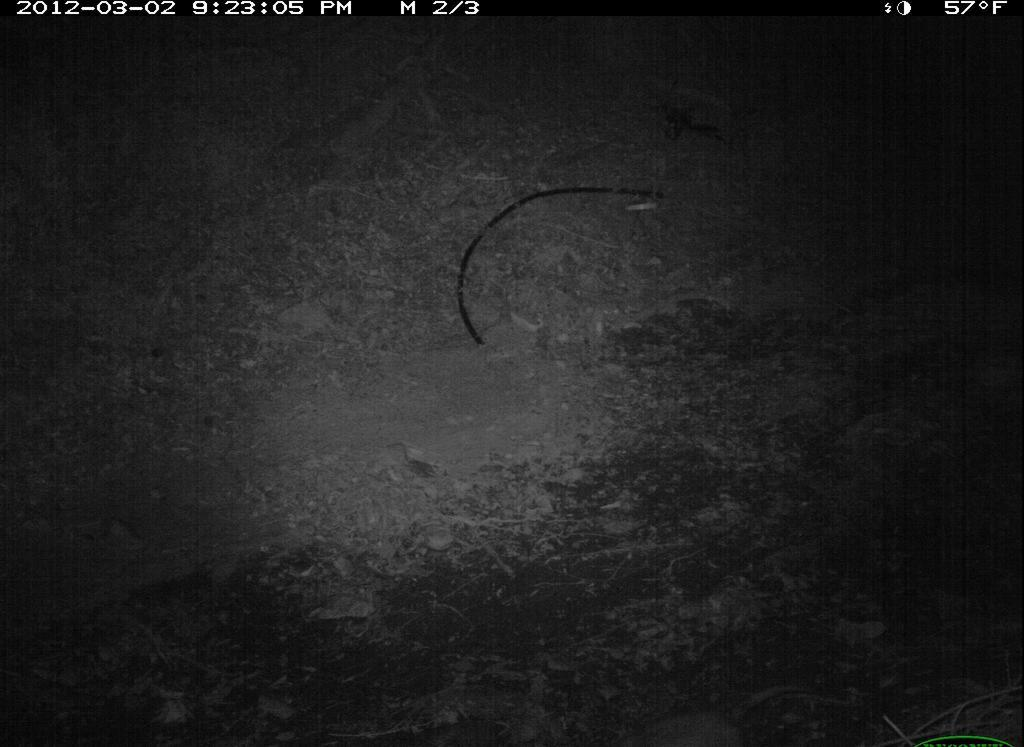opossum: (587, 670, 820, 747)
